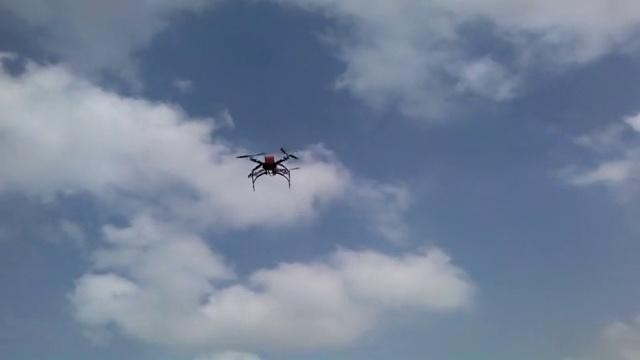drone: (235, 145, 300, 190)
